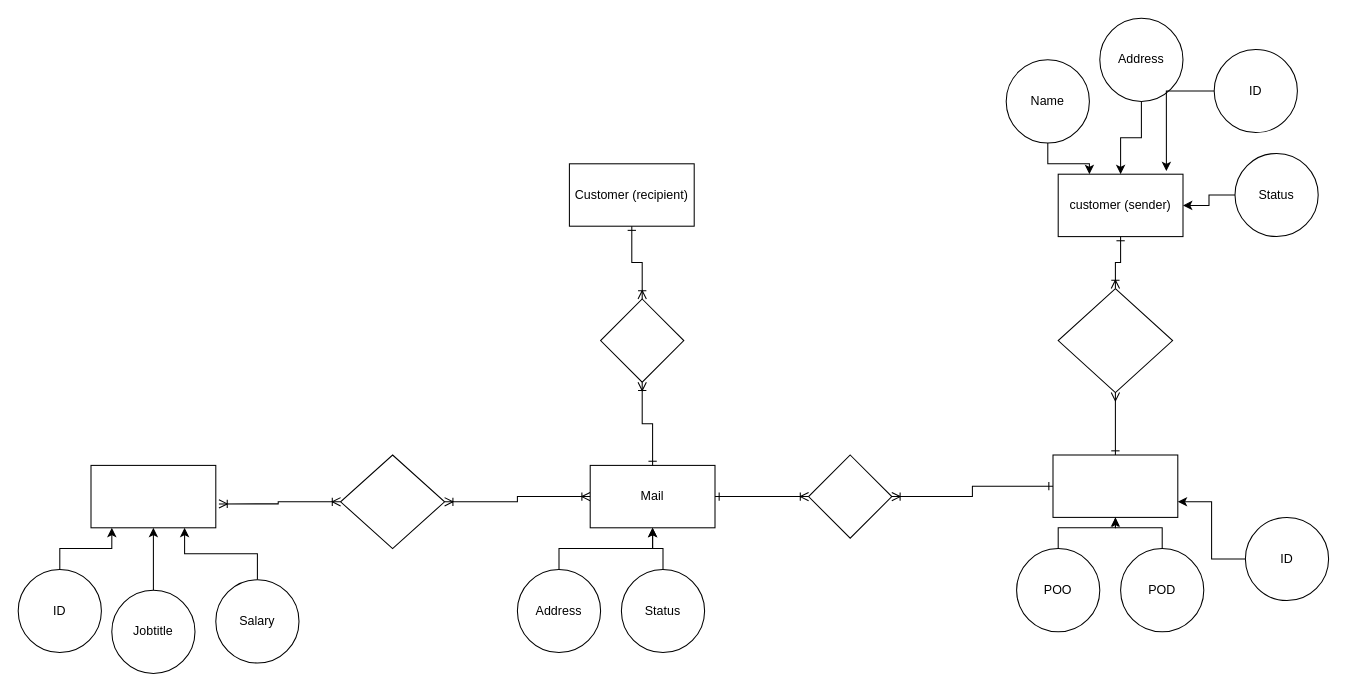
This 1347x692 diagram has some shape labels left out. The centre of each missing label's shape, as x and y in pixels:
"delivery/pickup" belongs at [642,340].
"Employer" belongs at [153,496].
"Package" belongs at [1115,485].
"recipient" belongs at [850,496].
"Sent/pickup" belongs at [1115,340].
"Sorting/Work" belongs at [392,501].
